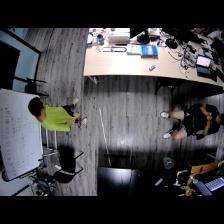normal: (161, 105, 224, 139), (29, 98, 86, 130)
